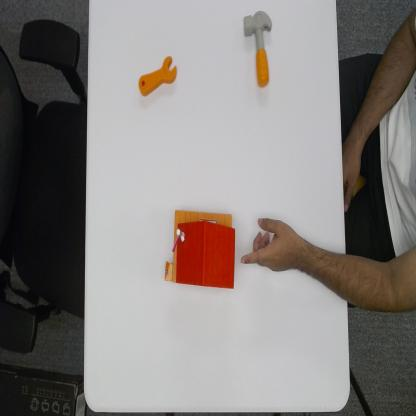Arm: (308, 241, 416, 313)
Hammer: (243, 9, 273, 91)
Hand: (239, 214, 308, 275)
House: (162, 206, 238, 292)
Screwdriver: (138, 53, 179, 99)
